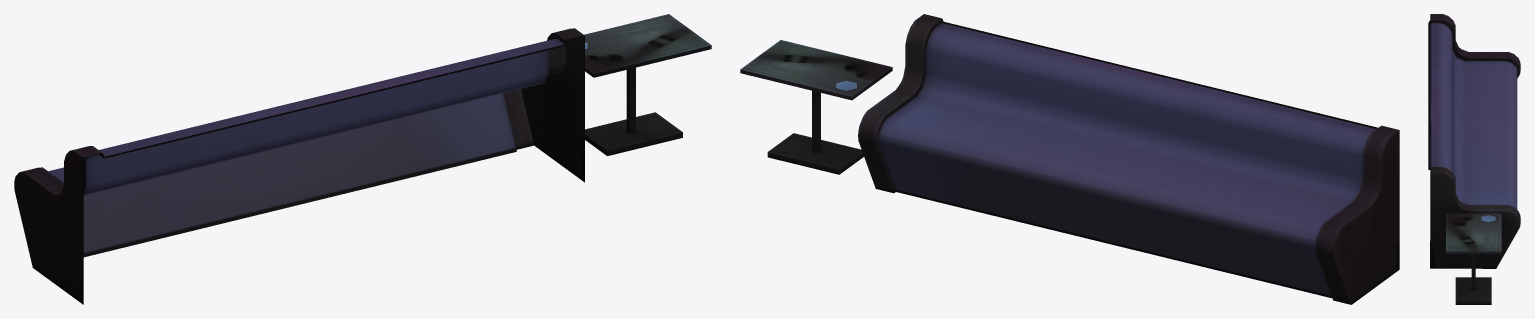
Rendered from TableSofa.obj.
3 views of the same model, side by side, from view 1: azimuth 30°, elevation 25°; view 2: azimuth 150°, elevation 25°; view 3: azimuth 270°, elevation 25° (orthographic). The views are drawn at different scales.
Parts seen in each view (by area): view 1: Object_16; view 2: Object_16; view 3: Object_16.
Boxes of the visible parts, x1,y1,x2,y2 form: Object_16: [14, 14, 711, 304]; Object_16: [740, 14, 1399, 304]; Object_16: [1428, 14, 1520, 304].
Bounding box in the file's own units: 4.36 × 0.9585 × 0.8366.
Materials: 1 (1 with a texture image).
